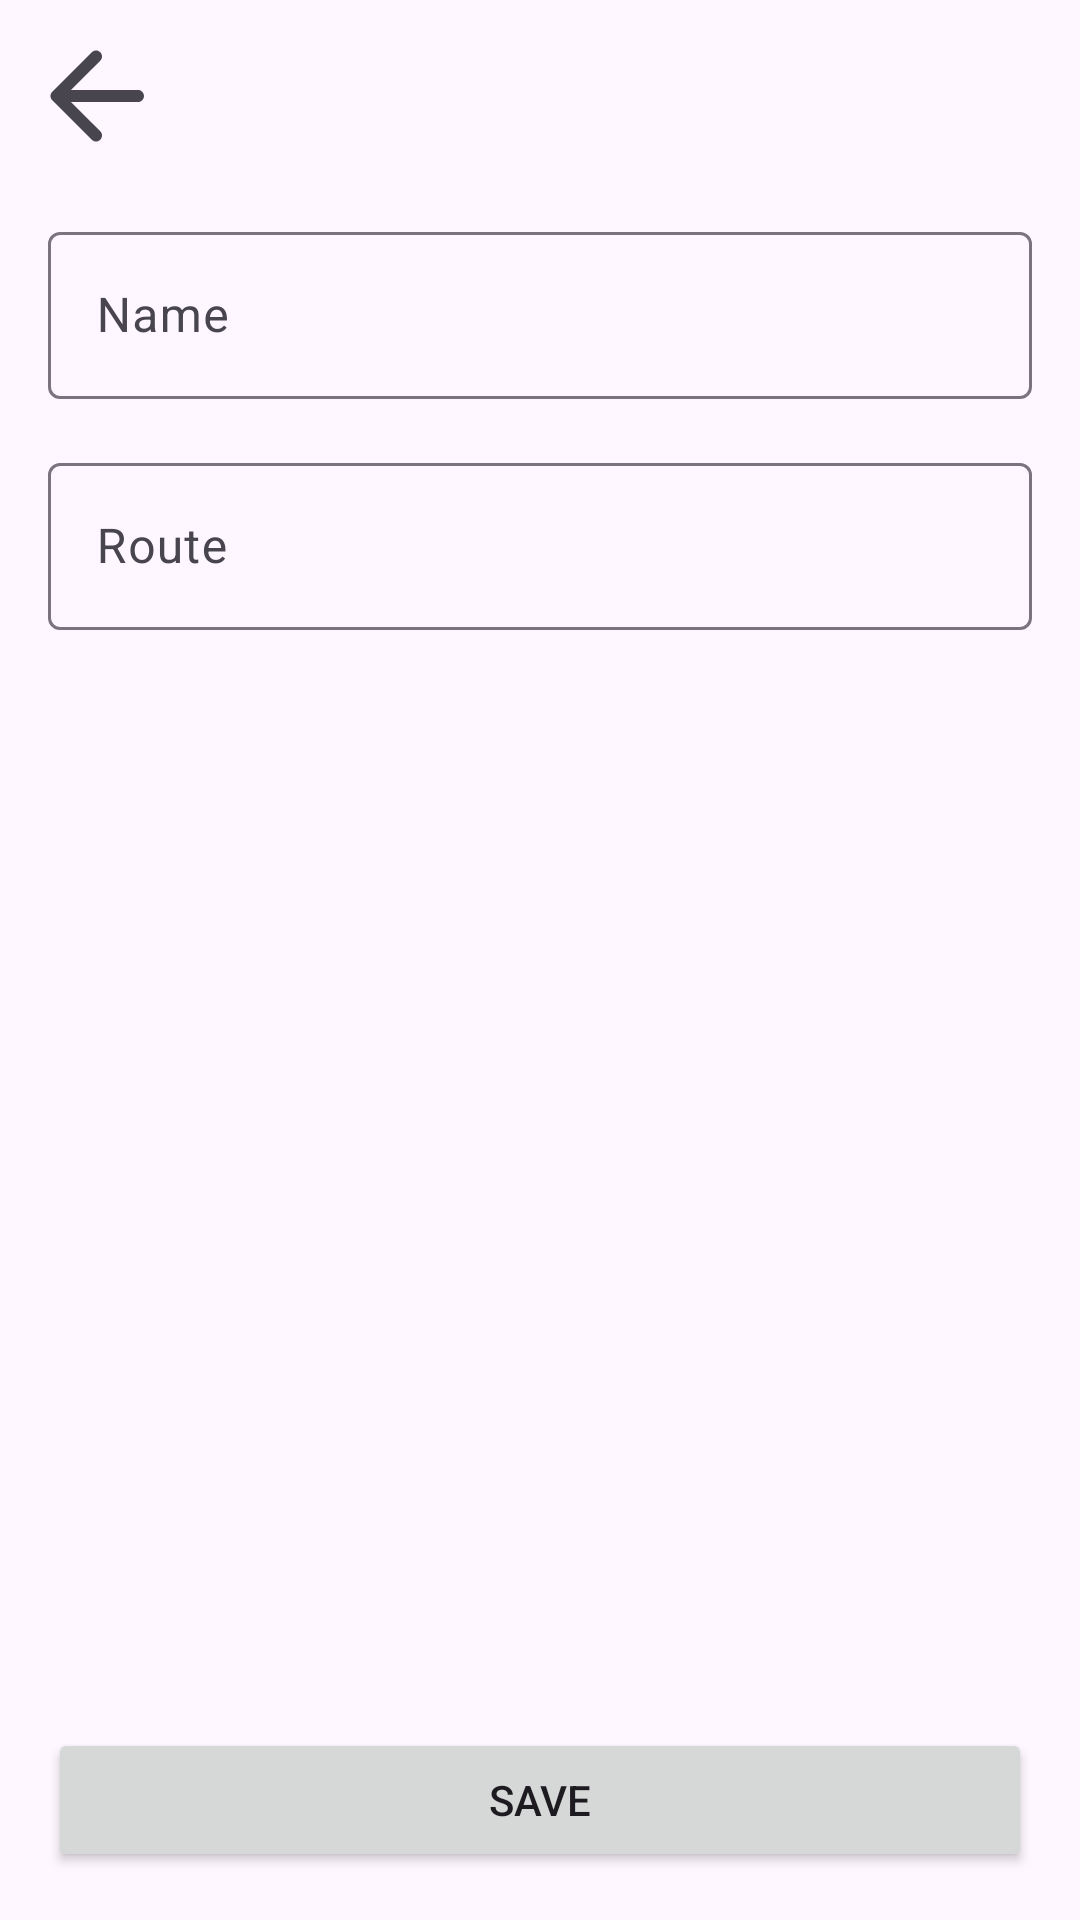

Screen size 1080px×1920px. Icon name, then its box in pixels as (x1, y1, x2, y2):
Back, button: (50, 50, 144, 142)
